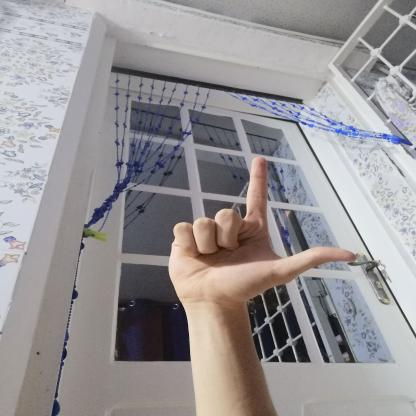LAAM: (144, 146, 372, 322)
